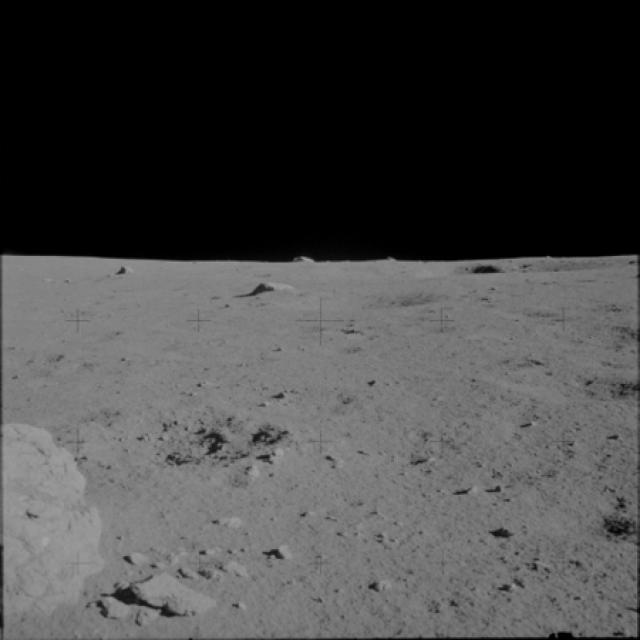crater: (469, 351, 639, 414), (282, 280, 455, 324)
rock: (0, 414, 105, 628), (97, 572, 222, 626), (240, 274, 310, 300), (245, 444, 289, 482), (485, 518, 530, 543), (263, 540, 304, 565), (218, 556, 251, 581), (211, 512, 242, 532), (362, 576, 393, 596), (110, 261, 137, 282), (120, 548, 148, 564)
